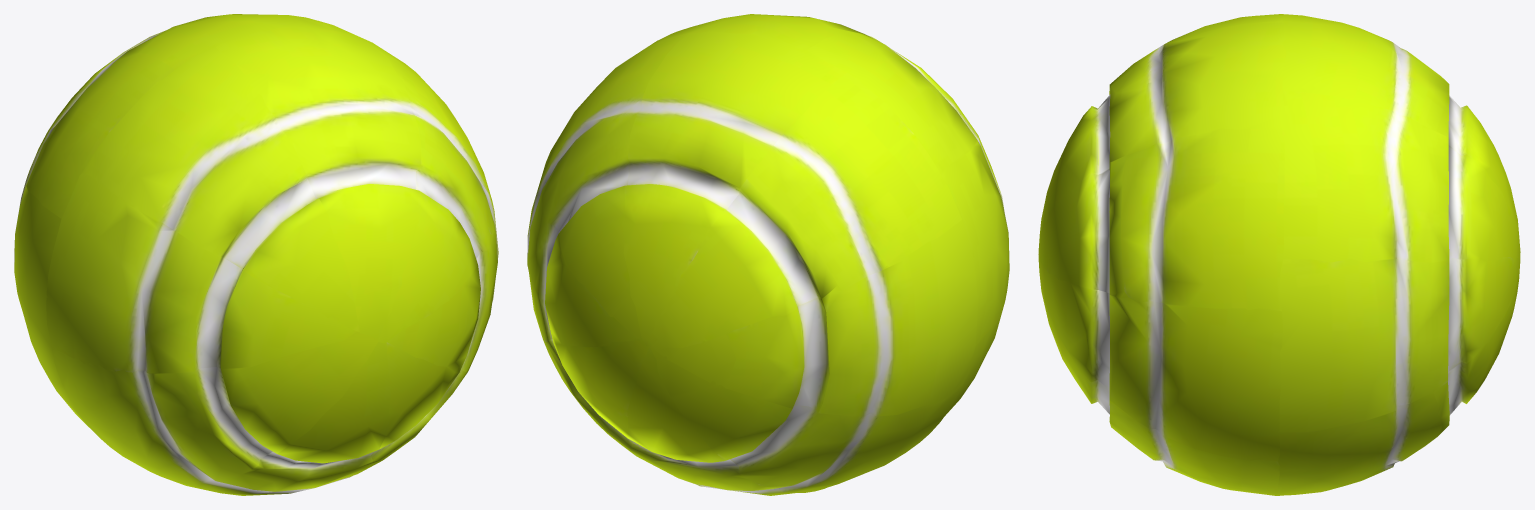
The model's file is ball.glb.
The picture shows the model from 3 angles, left to right: view 1: azimuth 30°, elevation 25°; view 2: azimuth 150°, elevation 25°; view 3: azimuth 270°, elevation 25°; orthographic projection.
Size of the model in its own units: 1.9 by 1.9 by 1.9.
Materials: 1 (1 with a texture image).
